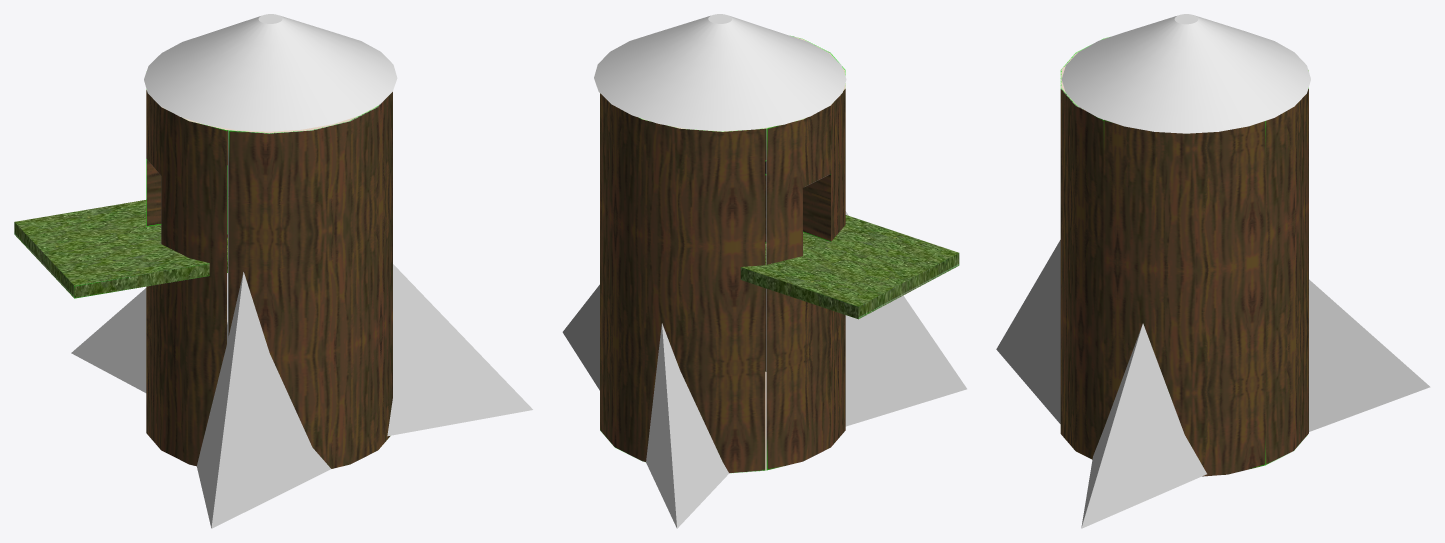
File: LinkHouse.FBX
3 renders of one model, left to right at view 1: azimuth 30°, elevation 25°; view 2: azimuth 150°, elevation 25°; view 3: azimuth 270°, elevation 25°, orthographic.
Visible parts, largest first — view 1: Cylinder001, Cone001, Pyramid002, Pyramid001, Box001, Pyramid003; view 2: Cylinder001, Cone001, Box001, Pyramid002, Pyramid003, Pyramid001; view 3: Cylinder001, Cone001, Pyramid001, Pyramid003, Pyramid002.
Part boxes in pixels (<box>): Cylinder001: <box>146,71,392,468</box>; Cone001: <box>144,14,397,131</box>; Pyramid002: <box>196,272,330,528</box>; Pyramid001: <box>387,264,532,436</box>; Box001: <box>14,200,227,298</box>; Pyramid003: <box>71,273,227,392</box>; Cylinder001: <box>600,35,845,473</box>; Cone001: <box>594,14,846,131</box>; Box001: <box>740,215,959,319</box>; Pyramid002: <box>845,211,966,426</box>; Pyramid003: <box>646,323,728,528</box>; Pyramid001: <box>562,284,599,390</box>; Cylinder001: <box>1060,37,1308,476</box>; Cone001: <box>1061,14,1310,133</box>; Pyramid001: <box>1081,323,1206,528</box>; Pyramid003: <box>1309,279,1430,431</box>; Pyramid002: <box>996,240,1060,423</box>.
Size of the model in its own units: 1926 by 1734 by 1680.
Materials: 2 (2 with a texture image).
